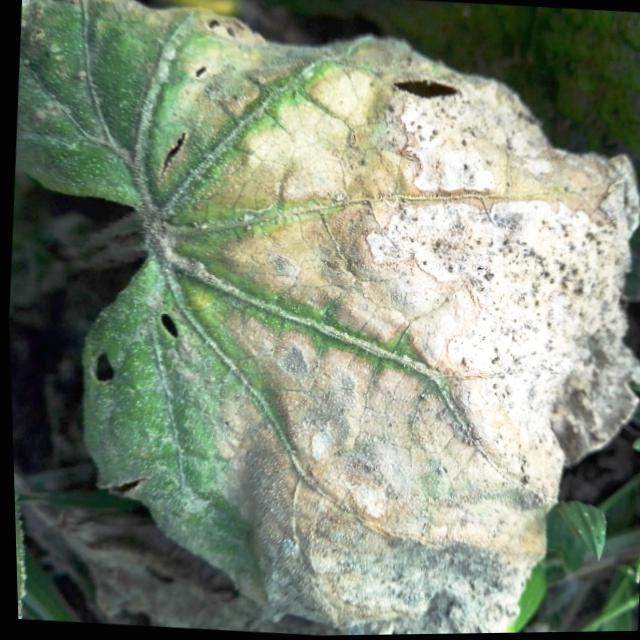Gummy-Stem-Blight: (127, 0, 640, 638)
